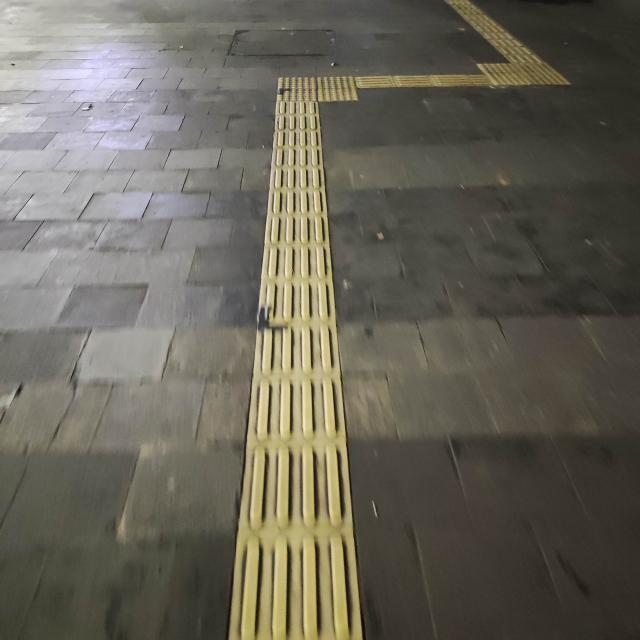kanan: (266, 52, 414, 120)
